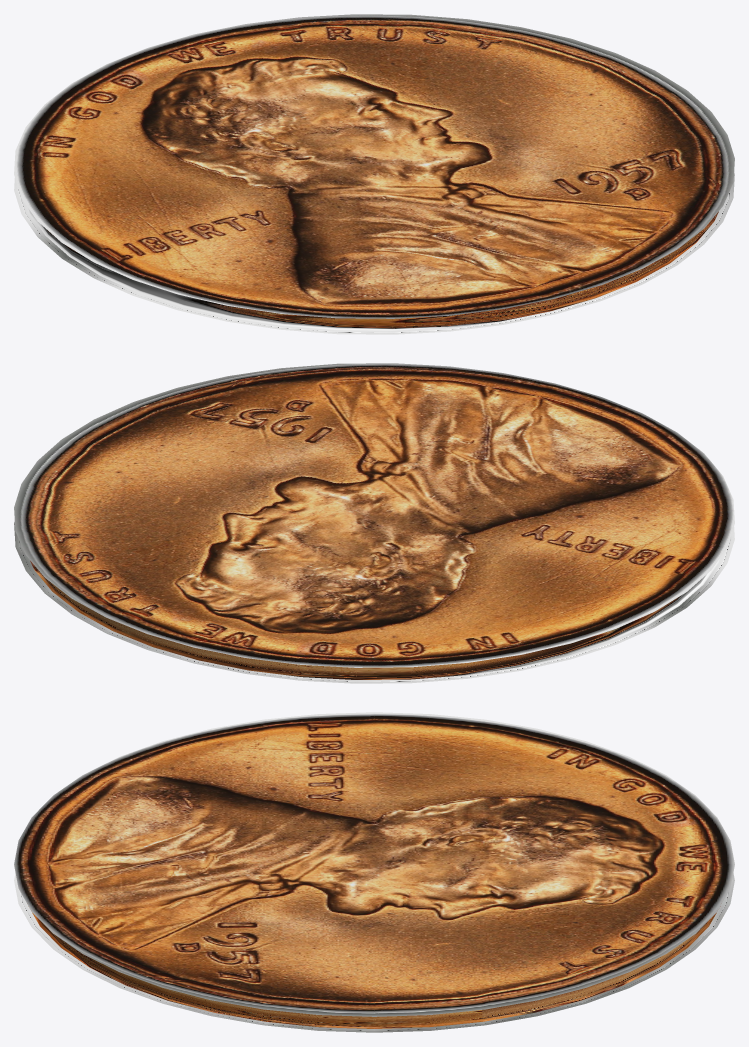
File: Penny.fbx
3 renders of one model, top to bottom at view 1: azimuth 30°, elevation 25°; view 2: azimuth 150°, elevation 25°; view 3: azimuth 270°, elevation 25°, orthographic.
Parts seen in each view (by area): view 1: pCylinder1; view 2: pCylinder1; view 3: pCylinder1.
Part boxes in pixels (bbox=[...]): pCylinder1: bbox=[14, 14, 734, 334]; pCylinder1: bbox=[14, 363, 734, 683]; pCylinder1: bbox=[14, 712, 734, 1032].
Size of the model in its own units: 2.04 by 0.0496 by 2.04.
1 material, 1 textured.
